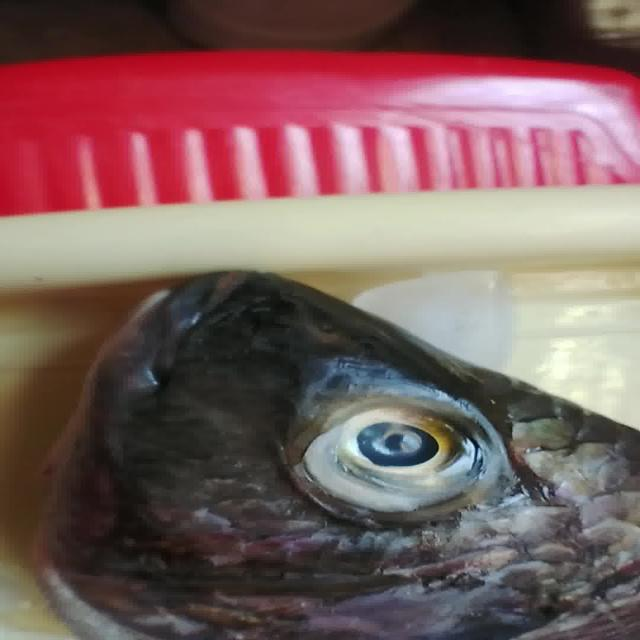Fresh: (280, 374, 526, 522)
